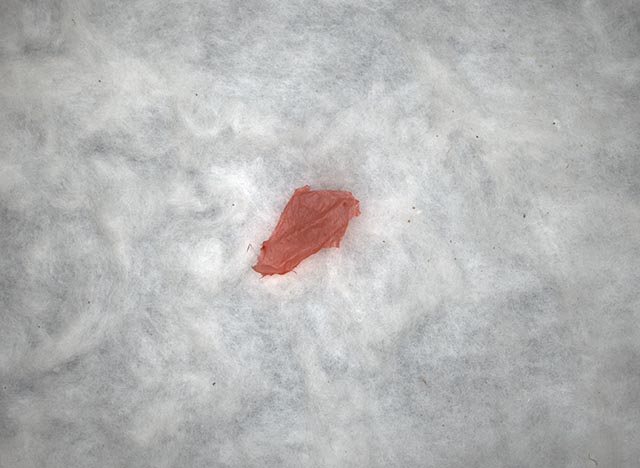plastic film: (252, 183, 363, 278)
